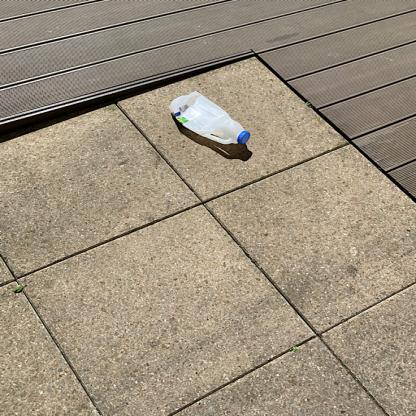trash: (167, 90, 252, 151)
